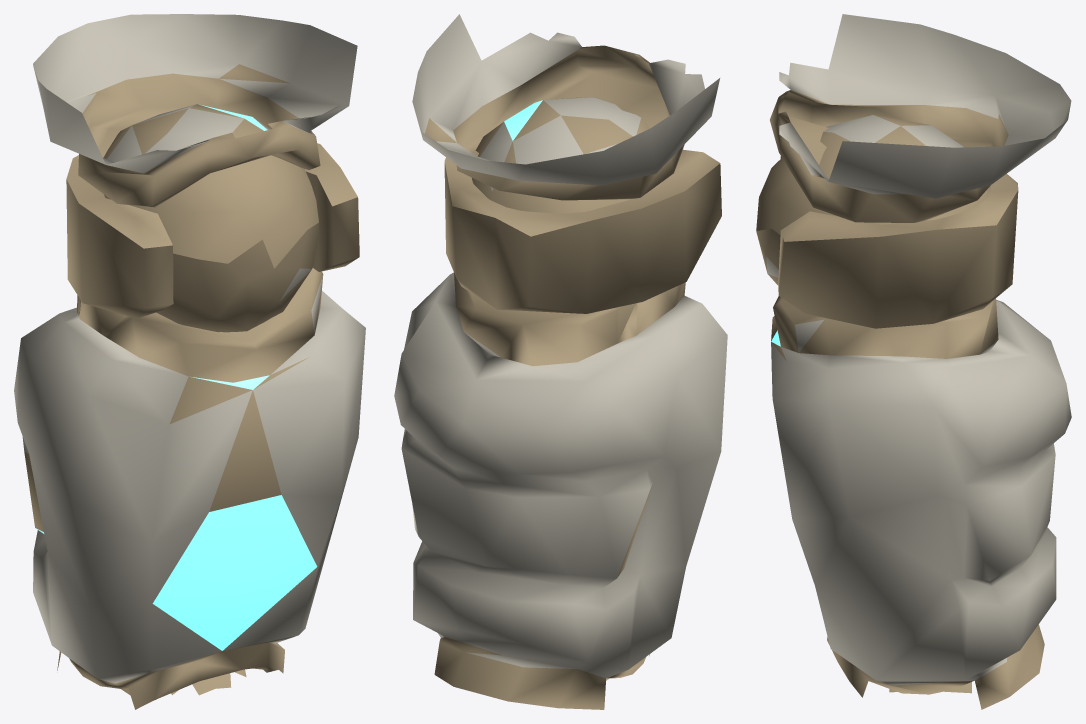
Rendered from BossShin.glb.
3 renders of one model, left to right at view 1: azimuth 30°, elevation 25°; view 2: azimuth 150°, elevation 25°; view 3: azimuth 270°, elevation 25°, orthographic. The views are drawn at different scales.
Visible parts, largest first — view 1: BossShin_Bend.006, PART_BossShin.006; view 2: BossShin_Bend.006, PART_BossShin.006; view 3: BossShin_Bend.006, PART_BossShin.006.
Boxes of the visible parts, left/top/right/bottom form: BossShin_Bend.006: left=14, top=171, right=365, bottom=709; PART_BossShin.006: left=33, top=14, right=357, bottom=268; BossShin_Bend.006: left=394, top=163, right=727, bottom=709; PART_BossShin.006: left=412, top=14, right=719, bottom=236; BossShin_Bend.006: left=756, top=156, right=1071, bottom=709; PART_BossShin.006: left=756, top=14, right=1071, bottom=241.
Bounding box in the file's own units: 0.6631 × 1.39 × 0.6717.
